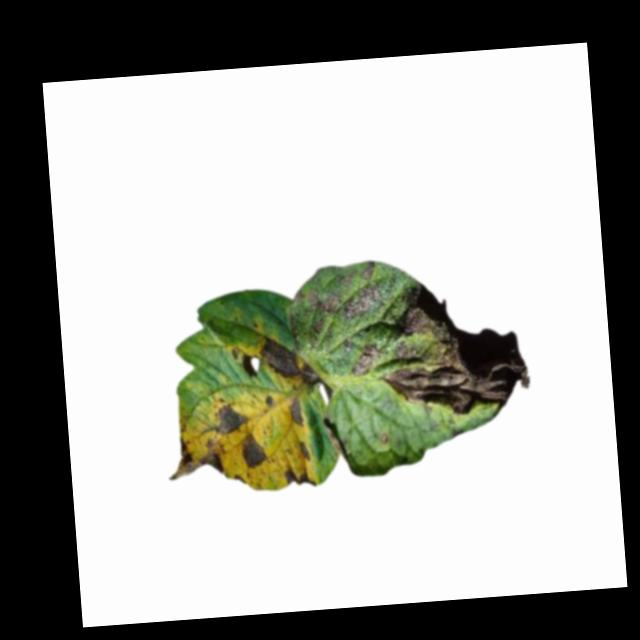Early_blight: (375, 276, 535, 420), (311, 261, 384, 321), (258, 332, 321, 393), (166, 435, 226, 484), (208, 402, 246, 438), (347, 343, 383, 380), (240, 432, 267, 471), (282, 466, 316, 490), (285, 398, 306, 430), (237, 355, 259, 383), (298, 441, 311, 464), (263, 394, 274, 406)
